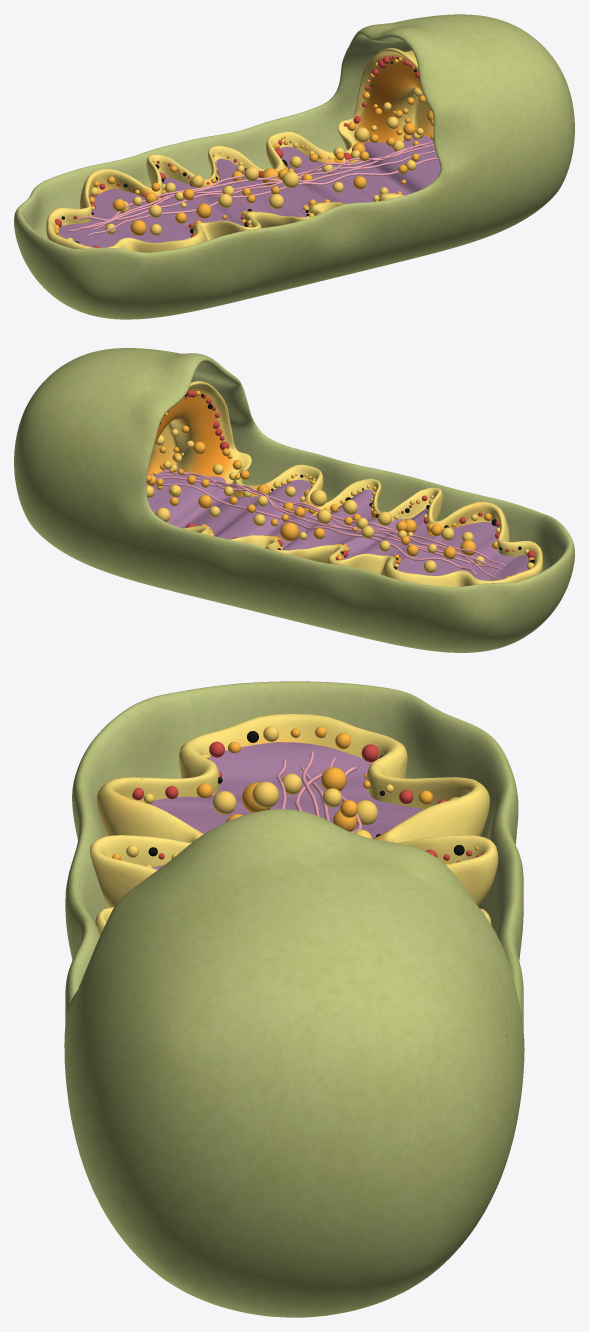
File: mitochondria-captaainro-web.glb
The picture shows the model from 3 angles, top to bottom: view 1: azimuth 30°, elevation 25°; view 2: azimuth 150°, elevation 25°; view 3: azimuth 270°, elevation 25°; orthographic projection. The views are drawn at different scales.
Parts seen in each view (by area): view 1: Object_3, Object_2; view 2: Object_2, Object_3; view 3: Object_3, Object_2.
Boxes of the visible parts, box(x1,y1,x2,y2) form: Object_3: box(14, 14, 574, 319); Object_2: box(17, 28, 442, 253); Object_2: box(15, 356, 571, 647); Object_3: box(14, 348, 574, 652); Object_3: box(64, 682, 524, 1317); Object_2: box(70, 681, 524, 1275).
Bounding box in the file's own units: 28.34 × 11.17 × 10.74.
2 materials, 2 textured.
